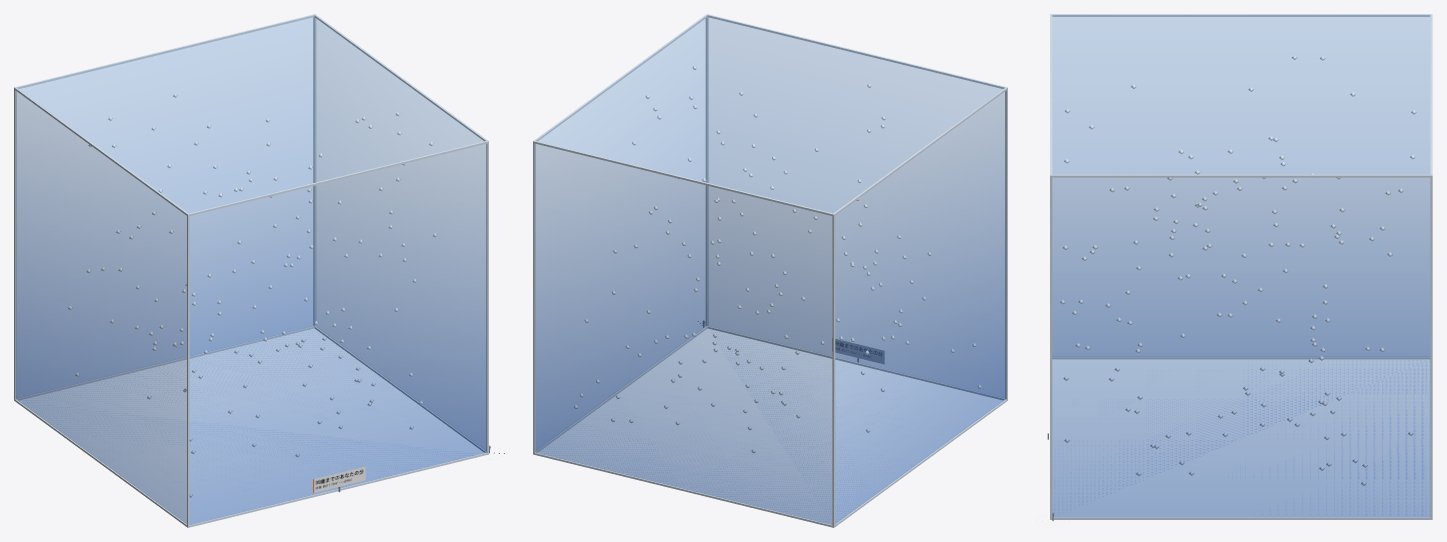
The model's file is cube_life_99.glb.
The picture shows the model from 3 angles, left to right: view 1: azimuth 30°, elevation 25°; view 2: azimuth 150°, elevation 25°; view 3: azimuth 270°, elevation 25°; orthographic projection. The views are drawn at different scales.
Parts seen in each view (by area): view 1: co2, edge, dots, label; view 2: co2, edge, dots, label; view 3: co2, edge, dots.
Part boxes in pixels (left/top/right/bottom): co2: left=16, top=15, right=486, bottom=524; edge: left=14, top=14, right=488, bottom=527; dots: left=68, top=93, right=437, bottom=497; label: left=313, top=466, right=365, bottom=492; co2: left=535, top=15, right=1005, bottom=524; edge: left=533, top=14, right=1007, bottom=527; dots: left=574, top=65, right=981, bottom=453; label: left=835, top=339, right=884, bottom=363; co2: left=1051, top=14, right=1430, bottom=517; edge: left=1050, top=14, right=1432, bottom=519; dots: left=1060, top=55, right=1416, bottom=485.
Size of the model in its own units: 72.01 by 68.24 by 71.11.
8 materials, 3 textured.
